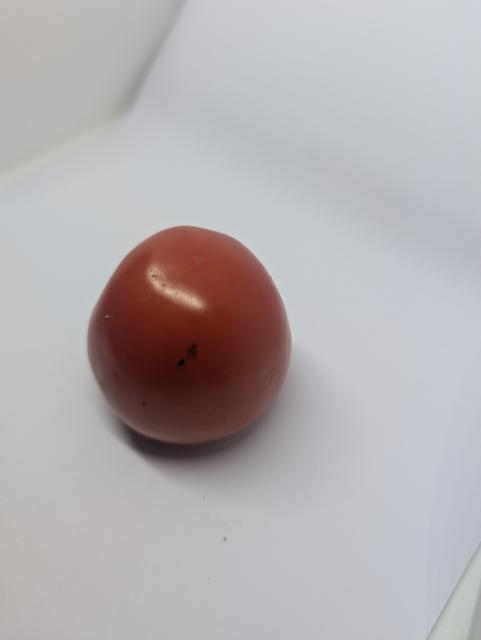red: (70, 211, 301, 453)
